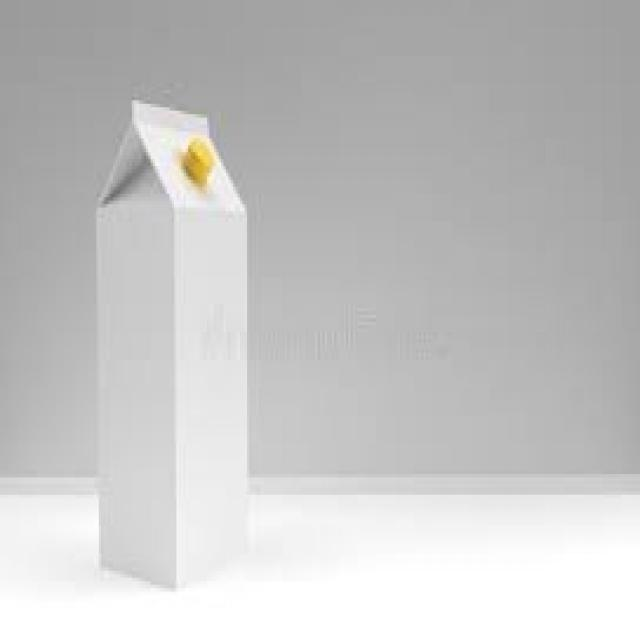non_white_jug: (87, 90, 259, 605)
